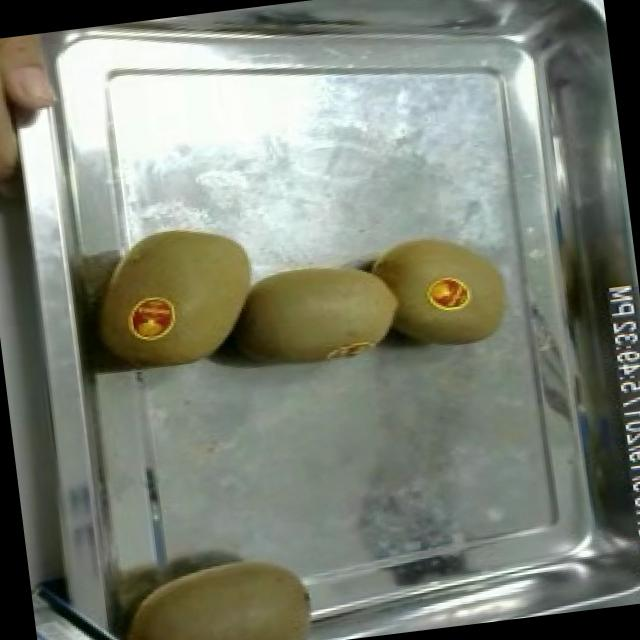Fruit: (199, 242, 410, 388), (96, 205, 274, 368), (356, 210, 531, 366), (107, 537, 324, 640)
